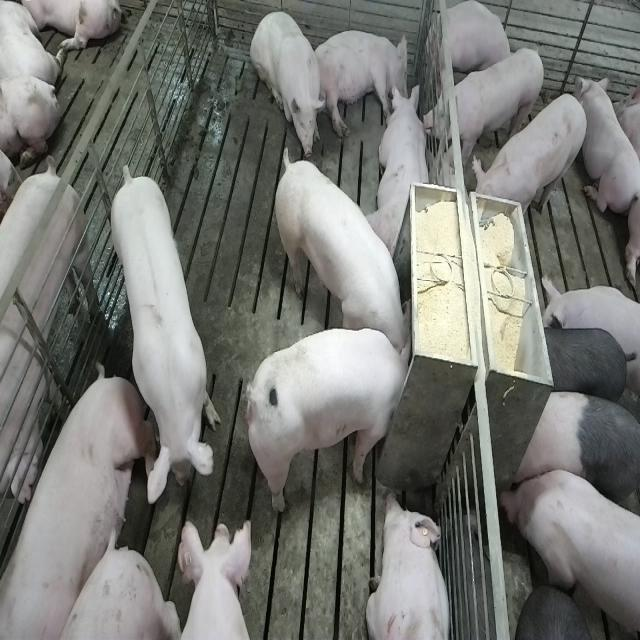Feeding: (249, 325, 421, 517), (272, 144, 409, 356)
Lateral_lying: (0, 366, 144, 640), (311, 29, 409, 138)
Sitting: (250, 7, 325, 158)
Standing: (107, 165, 220, 506), (0, 165, 98, 516), (500, 464, 638, 640), (512, 388, 638, 520), (472, 92, 589, 229), (423, 44, 545, 163), (176, 515, 256, 638), (529, 322, 635, 408)
Sternal_lying: (365, 489, 452, 640), (368, 84, 433, 263), (579, 72, 638, 222), (433, 1, 513, 88)
